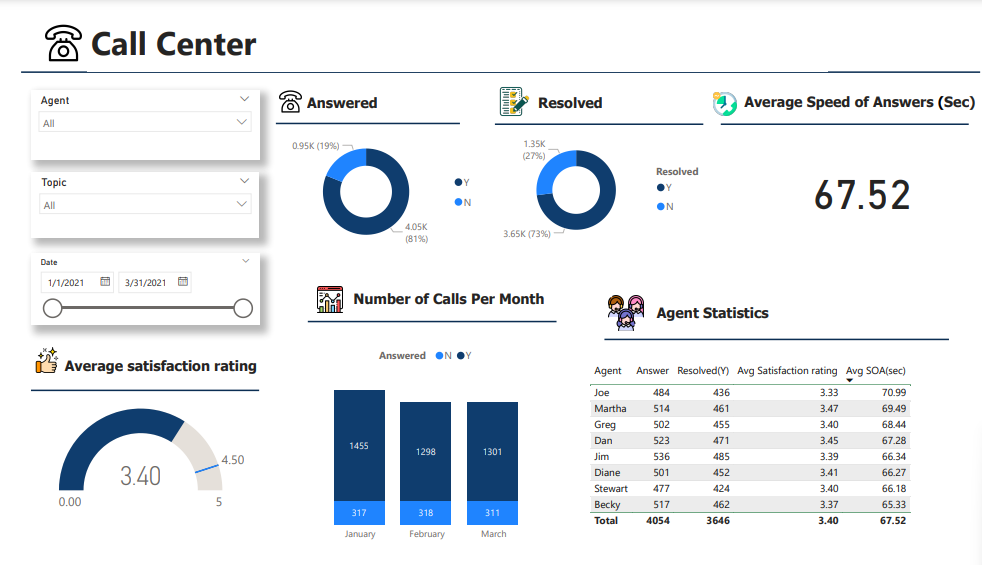

The dashboard page shown, as its layout file describes it:
{"tool":"powerbi","page":{"name":"Page 1","canvas":[1280,720],"ordinal":0},"visuals":[{"type":"slicer","fields":{"Values":["Sheet1.Agent"]},"box":[22,96.6,299.6,91.7],"z":0},{"type":"slicer","fields":{"Values":["Sheet1.Topic"]},"box":[23.2,205.4,298.4,85.6],"z":1000},{"type":"slicer","fields":{"Values":["Sheet1.Date"]},"box":[22,311.8,299.6,94.2],"z":2000},{"type":"donutChart","fields":{"Category":["Sheet1.Answered (Y/N)"],"Y":["CountNonNull(Sheet1.Answered (Y/N))"]},"box":[343.3,148.9,272.2,163.3],"z":3000},{"type":"gauge","title":"Average of Satisfaction rating","fields":{"Y":["Avg(Sheet1.Satisfaction rating)"],"MaxValue":["Max(Sheet1.Satisfaction rating)"]},"box":[42.8,511.1,280,149.2],"z":4000},{"type":"donutChart","title":"Resolved","fields":{"Category":["Sheet1.Resolved"],"Y":["CountNonNull(Sheet1.Resolved)"]},"box":[627.8,153.3,296.7,151.1],"z":5000},{"type":"card","fields":{"Values":["Avg(Sheet1.Speed of answer in seconds)"]},"box":[974.6,152.9,280,150.4],"z":6000},{"type":"columnChart","fields":{"Category":["Sheet1.Date.Variation.Date Hierarchy.Month"],"Y":["CountNonNull(Sheet1.Answered (Y/N))"],"Series":["Sheet1.Answered (Y/N)"]},"box":[380.3,425.5,325.3,273.9],"z":7000},{"type":"tableEx","fields":{"Values":["Sheet1.Agent","Sheet1.Answer","Sheet1.Resolved(Y)","Avg(Sheet1.Satisfaction rating)","Avg(Sheet1.Speed of answer in seconds)"]},"box":[752,451.2,502.6,240.9],"z":8000},{"type":"textbox","box":[52.6,442.7,280,33],"z":9000},{"type":"shape","box":[22,425.5,299.6,132.1],"z":10000},{"type":"shape","box":[8.6,34.3,1261.4,78.6],"z":11000},{"type":"textbox","box":[95.7,0,974.3,72.9],"z":12000},{"type":"image","box":[632.2,86.8,51.4,50.1],"z":13000},{"type":"image","box":[332.6,91.7,59.9,39.1],"z":14000},{"type":"image","box":[22,6.1,85.6,57.5],"z":15000},{"type":"image","box":[22,425.5,42.8,51.4],"z":16000},{"type":"image","box":[776.5,360.7,55,57.5],"z":17000},{"type":"image","box":[392.5,351,45.2,42.8],"z":18000},{"type":"textbox","box":[840.1,373,430.4,40.4],"z":19000},{"type":"shape","box":[776.5,407.2,452.4,35.5],"z":20000},{"type":"textbox","box":[441.4,354.6,287.4,35.5],"z":21000},{"type":"shape","box":[386.4,390.1,326.5,23.2],"z":22000},{"type":"textbox","box":[380.3,96.6,205.4,42.8],"z":23000},{"type":"textbox","box":[683.6,96.6,205.4,37.9],"z":24000},{"type":"textbox","box":[955,95.4,325.3,51.4],"z":25000},{"type":"shape","box":[929.4,126,325.3,31.8],"z":26000},{"type":"shape","box":[632.2,130.8,273.9,22],"z":27000},{"type":"shape","box":[343.6,128.4,242.1,25.7],"z":28000},{"type":"image","box":[914.7,95.4,40.4,39.1],"z":29000}]}

Visuals, with their boxes in screenshot pixels (x1, y1, x2, y2), scaled from the page's 1280x720 canvas onto the 982x565 screenshot:
slicer - Sheet1.Agent: <box>17,76,247,148</box>
slicer - Sheet1.Topic: <box>18,161,247,228</box>
slicer - Sheet1.Date: <box>17,245,247,319</box>
donutChart - Sheet1.Answered (Y/N) x CountNonNull(Sheet1.Answered (Y/N)): <box>263,117,472,245</box>
"Average of Satisfaction rating" gauge: <box>33,401,248,518</box>
"Resolved" donutChart: <box>482,120,709,239</box>
card - Avg(Sheet1.Speed of answer in seconds): <box>748,120,963,238</box>
columnChart - Sheet1.Date.Variation.Date Hierarchy.Month x CountNonNull(Sheet1.Answered (Y/N)): <box>292,334,541,549</box>
tableEx - Sheet1.Agent x Sheet1.Answer: <box>577,354,963,543</box>
textbox: <box>40,347,255,373</box>
shape: <box>17,334,247,438</box>
shape: <box>7,27,974,89</box>
textbox: <box>73,0,821,57</box>
image: <box>485,68,524,107</box>
image: <box>255,72,301,103</box>
image: <box>17,5,83,50</box>
image: <box>17,334,50,374</box>
image: <box>596,283,638,328</box>
image: <box>301,275,336,309</box>
textbox: <box>645,293,975,324</box>
shape: <box>596,320,943,347</box>
textbox: <box>339,278,559,306</box>
shape: <box>296,306,547,324</box>
textbox: <box>292,76,449,109</box>
textbox: <box>524,76,682,106</box>
textbox: <box>733,75,981,115</box>
shape: <box>713,99,963,124</box>
shape: <box>485,103,695,120</box>
shape: <box>264,101,449,121</box>
image: <box>702,75,733,106</box>
